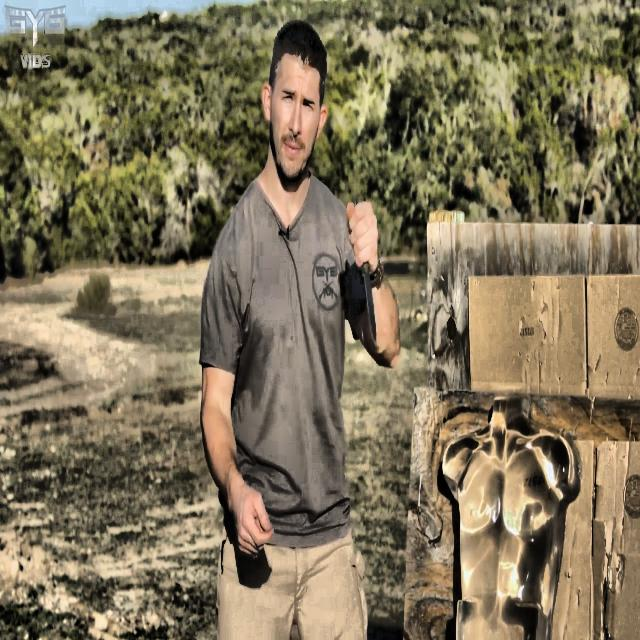knife: (362, 264, 378, 342)
